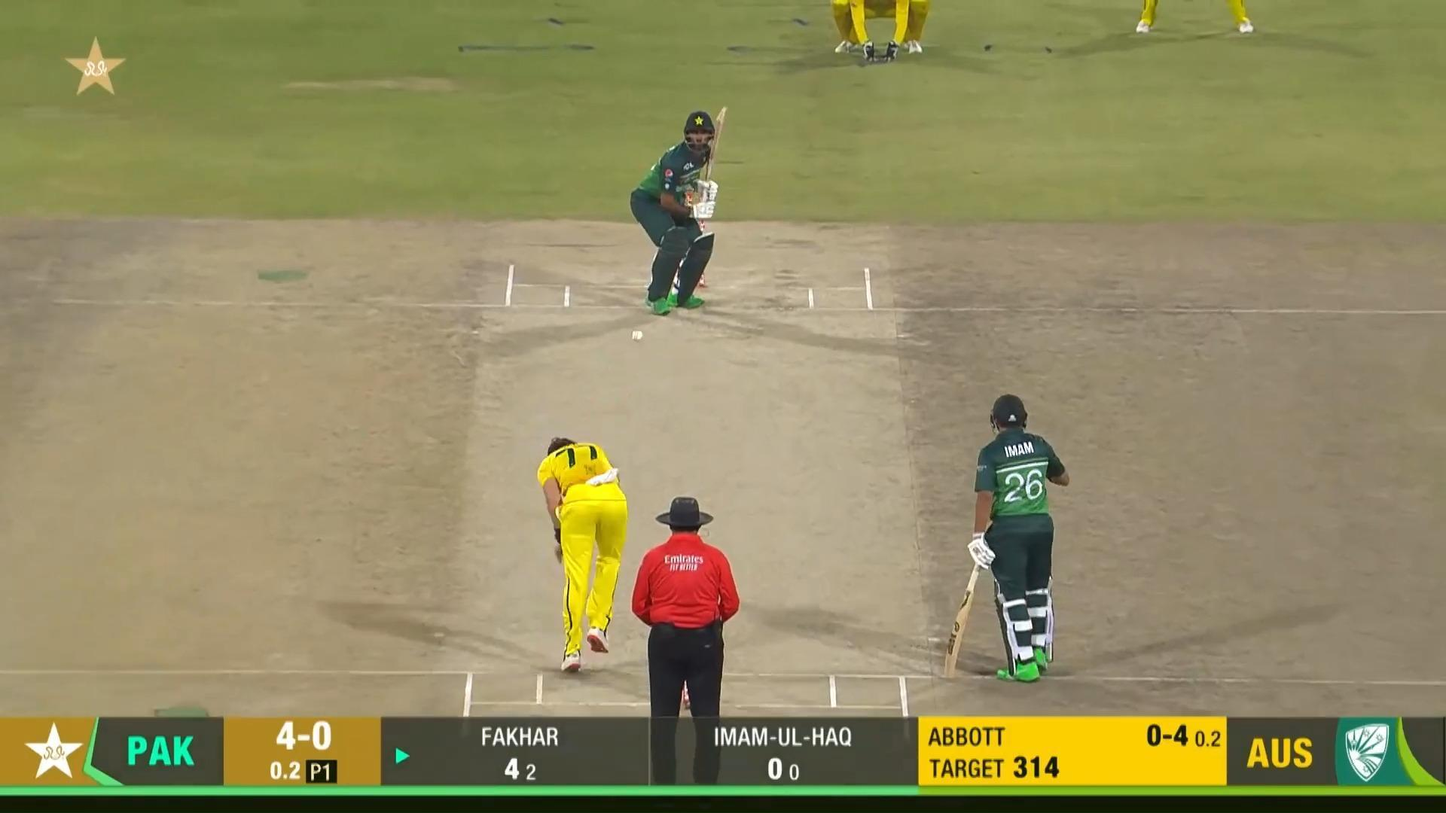BM 1: (628, 107, 729, 317)
BO: (537, 433, 629, 672)
